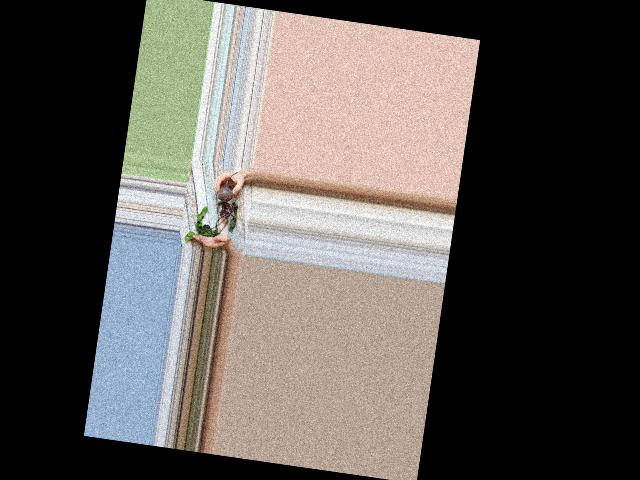beet: (184, 165, 242, 248)
